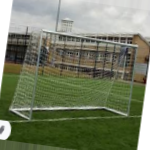goals: (9, 29, 138, 122)
